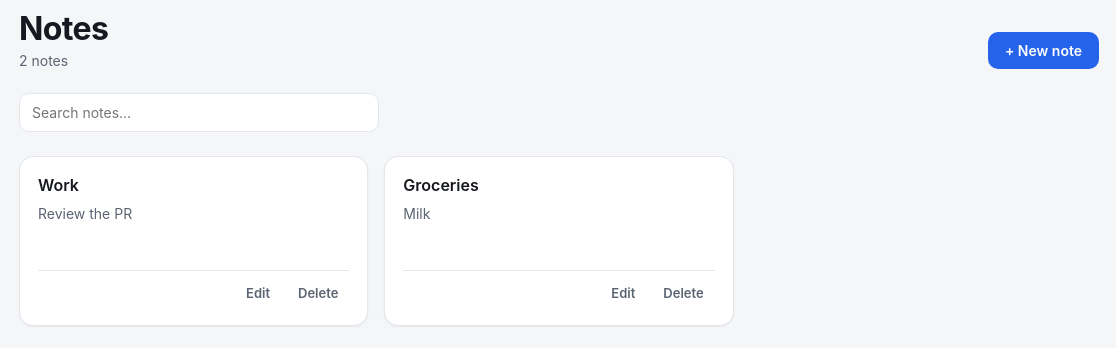
it: Notes dashboard › filters notes with search
This screenshot has width=1116, height=348.
Expected: the heading "Work" is shown, 38,175 -> 79,195
Type "milk" into the search field labelled "Search notes". click: (199, 112)
box: 19,93 -> 379,132
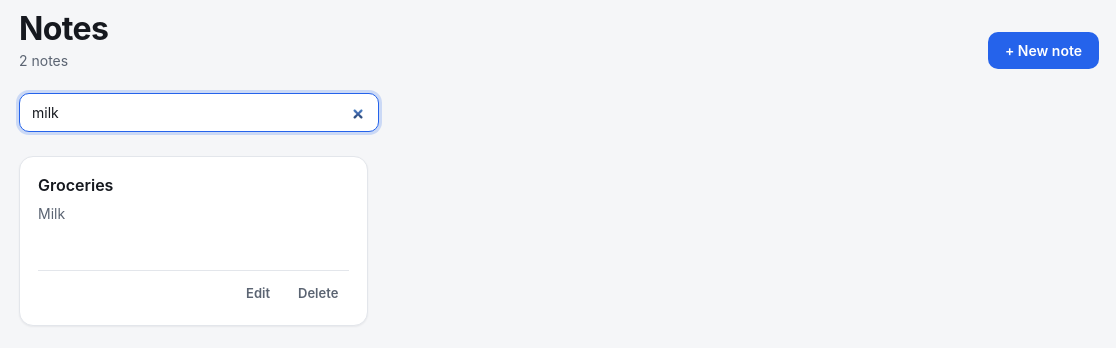
Expected: the heading "Groceries" is shown, 38,175 -> 113,195
Expected: the heading "Work" is gone
Replace the text in the search field named "Search notes" with "nope". click: (199, 112)
box: 19,93 -> 379,132
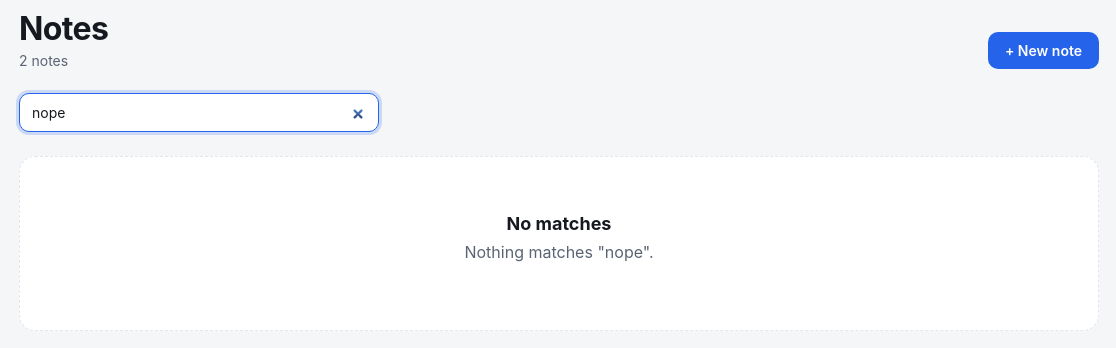
Expected: the heading "No matches" is shown, 506,213 -> 611,234
